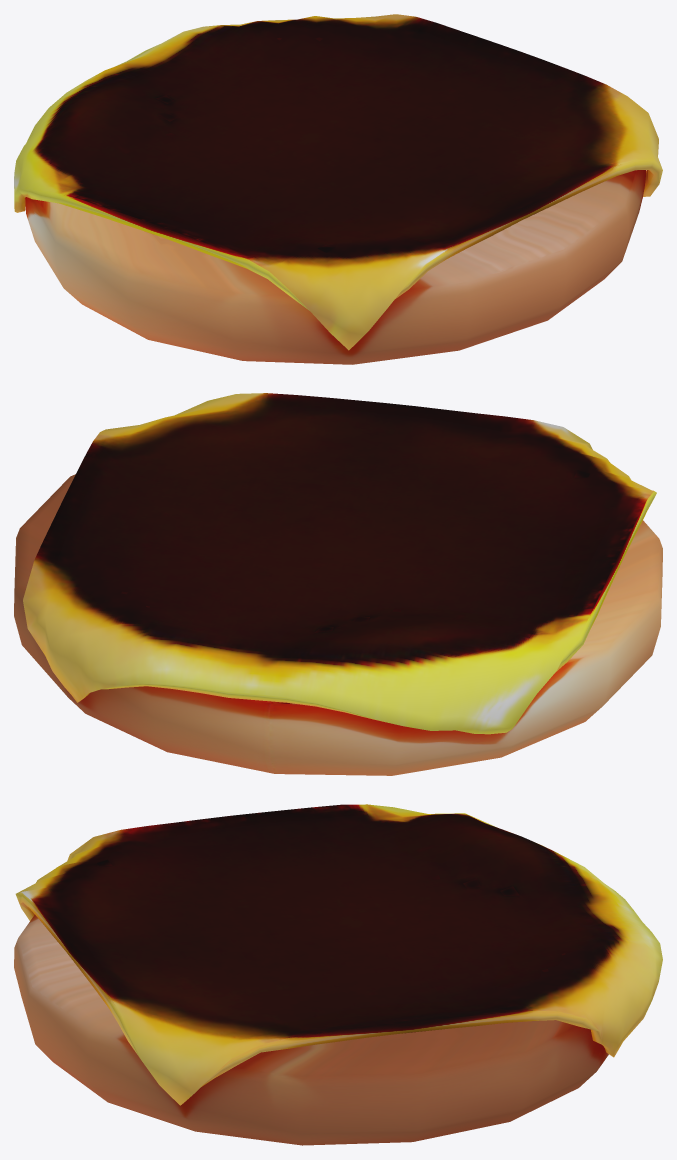
The model's file is bottomBun.glb.
The picture shows the model from 3 angles, top to bottom: view 1: azimuth 30°, elevation 25°; view 2: azimuth 150°, elevation 25°; view 3: azimuth 270°, elevation 25°; orthographic projection. The views are drawn at different scales.
Parts seen in each view (by area): view 1: cheez.002, bun_bottom.001; view 2: cheez.002, bun_bottom.001; view 3: cheez.002, bun_bottom.001.
Boxes of the visible parts, left/top/right/bottom form: cheez.002: left=14, top=14, right=662, bottom=350; bun_bottom.001: left=25, top=170, right=645, bottom=364; cheez.002: left=23, top=393, right=656, bottom=734; bun_bottom.001: left=14, top=474, right=662, bottom=775; cheez.002: left=15, top=804, right=662, bottom=1105; bun_bottom.001: left=14, top=915, right=608, bottom=1145.
Bounding box in the file's own units: 1.54 × 0.3662 × 1.61.
Materials: 2 (2 with a texture image).
